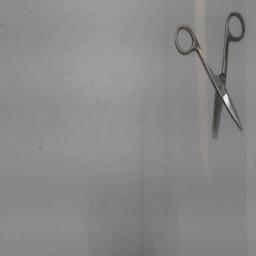Dressing Scissors: (169, 4, 249, 144)
